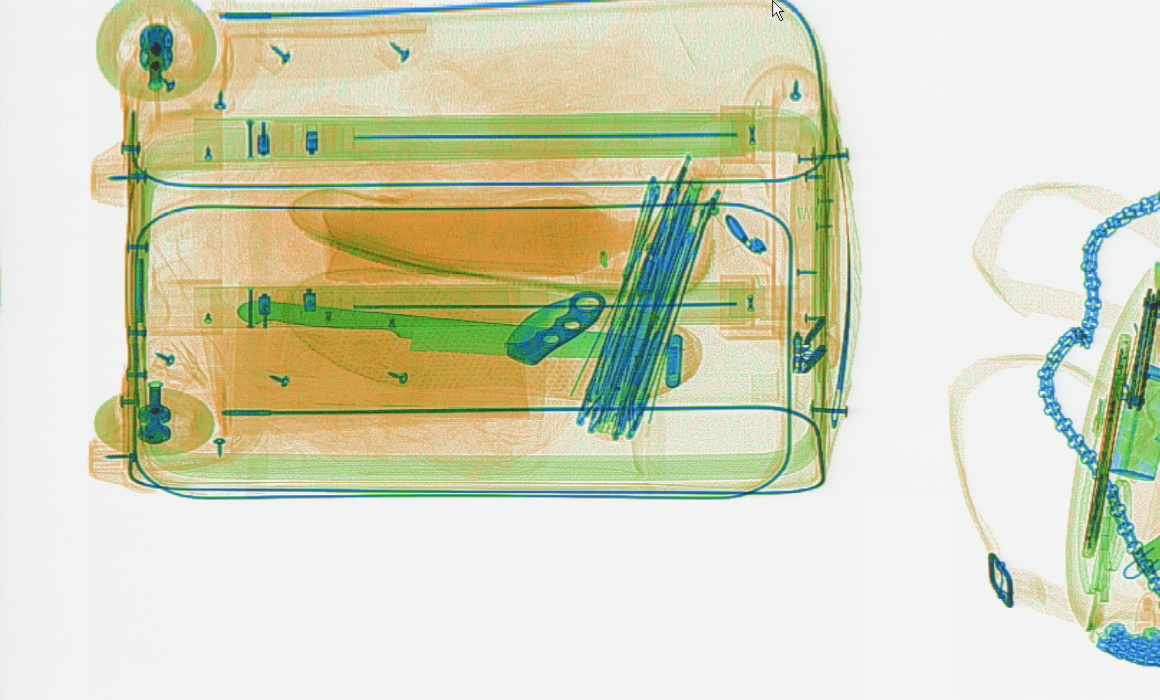knife: (236, 300, 690, 358), (1123, 286, 1158, 412)
